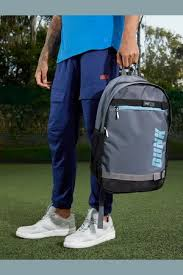backpack: (90, 63, 172, 193)
